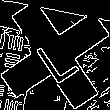L_NW: (28, 26, 82, 84)
